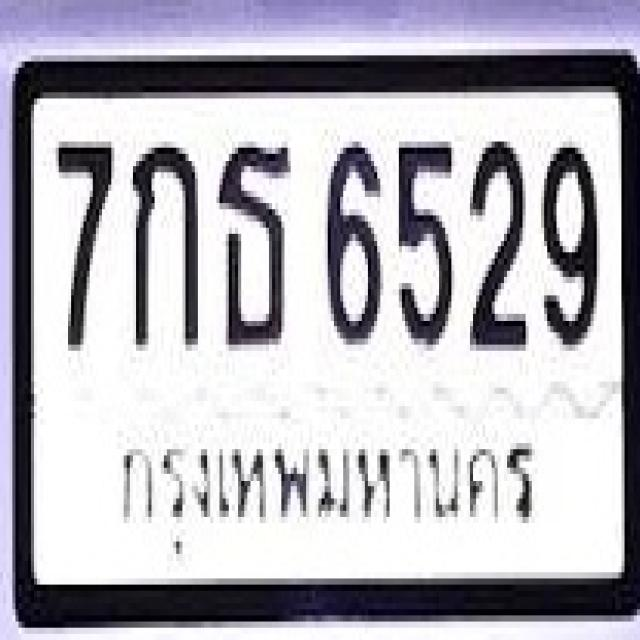license_plate: (11, 56, 640, 618)
